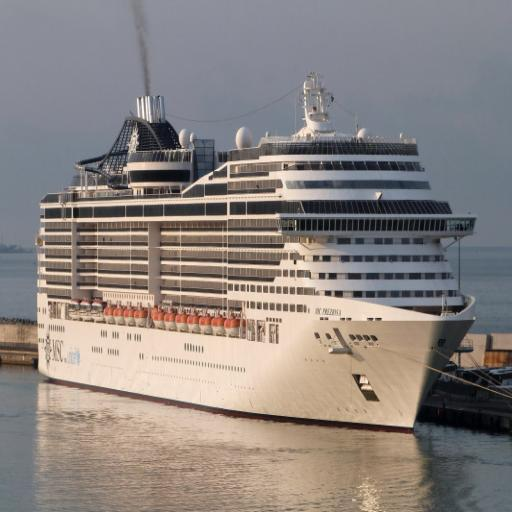cruises: (33, 70, 483, 439)
